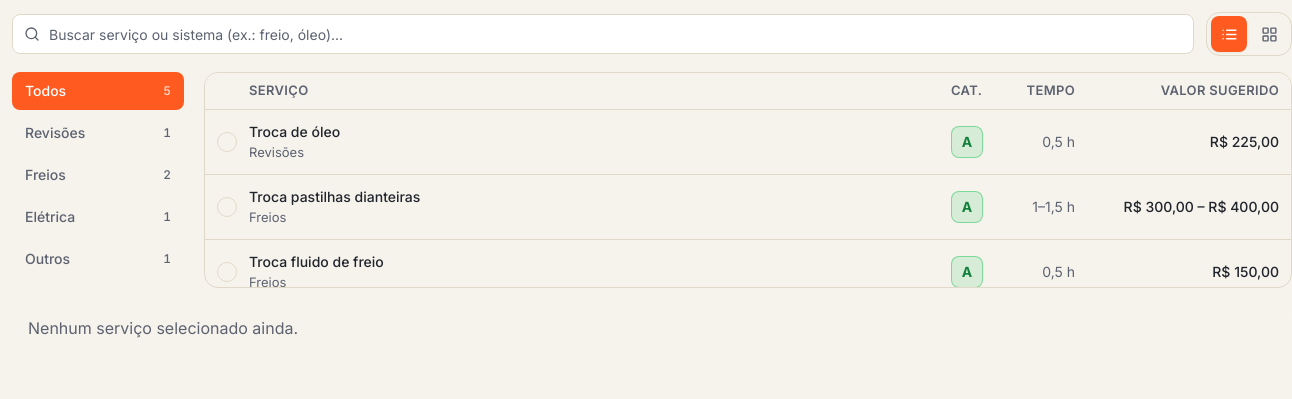
Test: ServicoPicker › shows the selection with totals and lets a chip remove a service
Expected: the text "Nenhum serviço selecionado ainda." is shown, [28,318,298,338]
Click the checkbox labelled "pastilhas".
click(335, 196)  # box [217,188,1279,224]
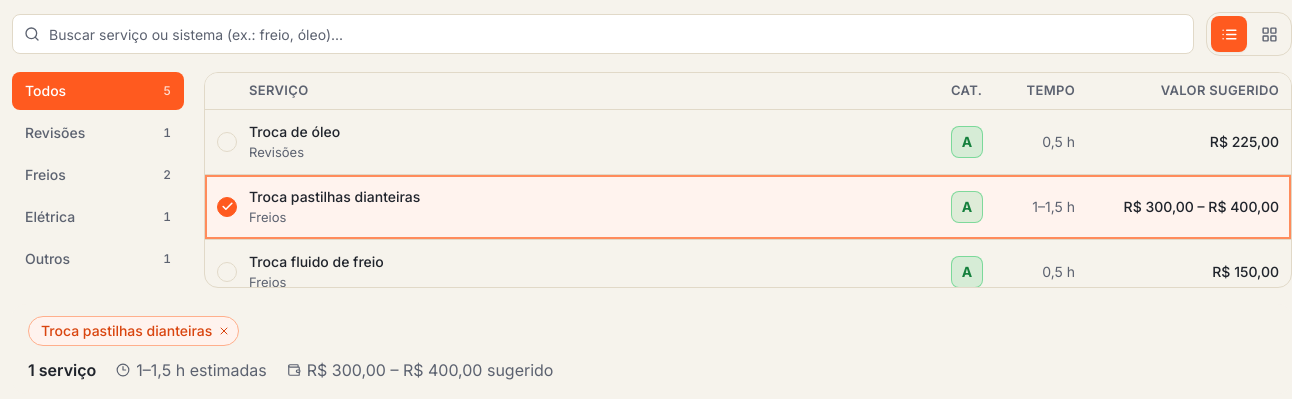
Click the checkbox labelled "Troca fluido de freio Freios A 0,5 h R$ 150,00".
click(316, 261)  # box [217,252,1279,290]
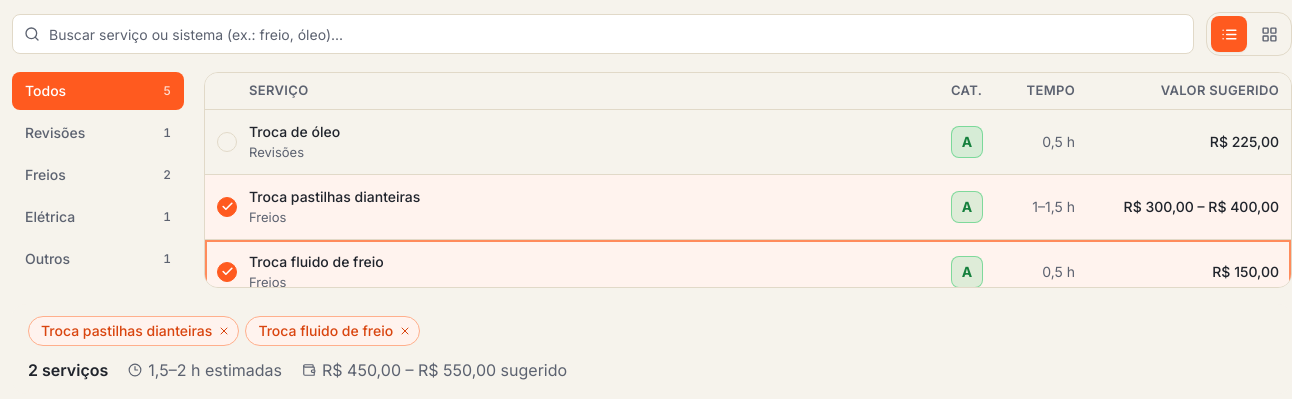
Now the text "2 serviços" is shown, box [28,358,108,382]
Now the text "1,5–2 h estimadas" is shown, box [128,358,282,382]
Now the text "R$ 450,00 – R$ 550,00 sugerido" is shown, box [302,358,567,382]
Click the button with aria-label "Remover Troca fluido de freio".
click(333, 331)  # box [245,316,420,346]
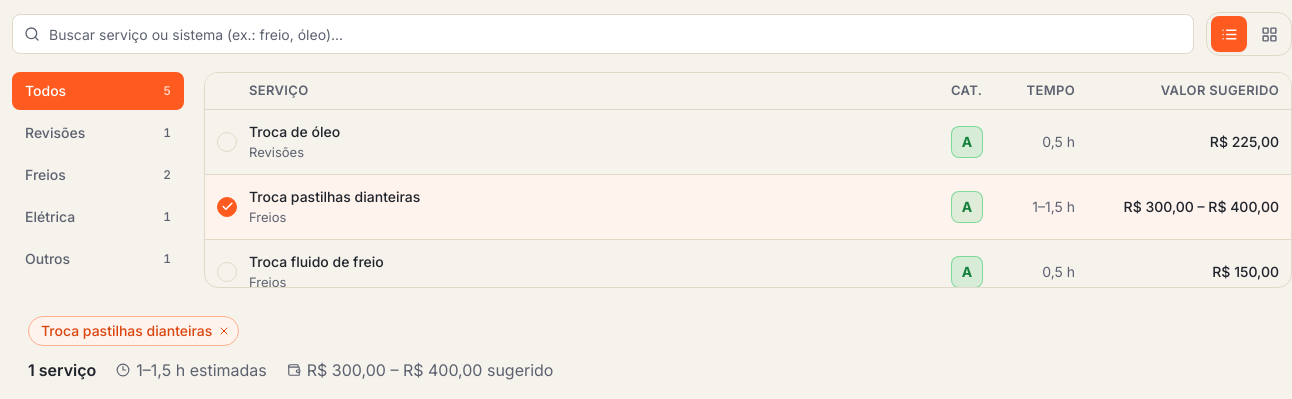
Now the text "1 serviço" is shown, box [28,358,96,382]
